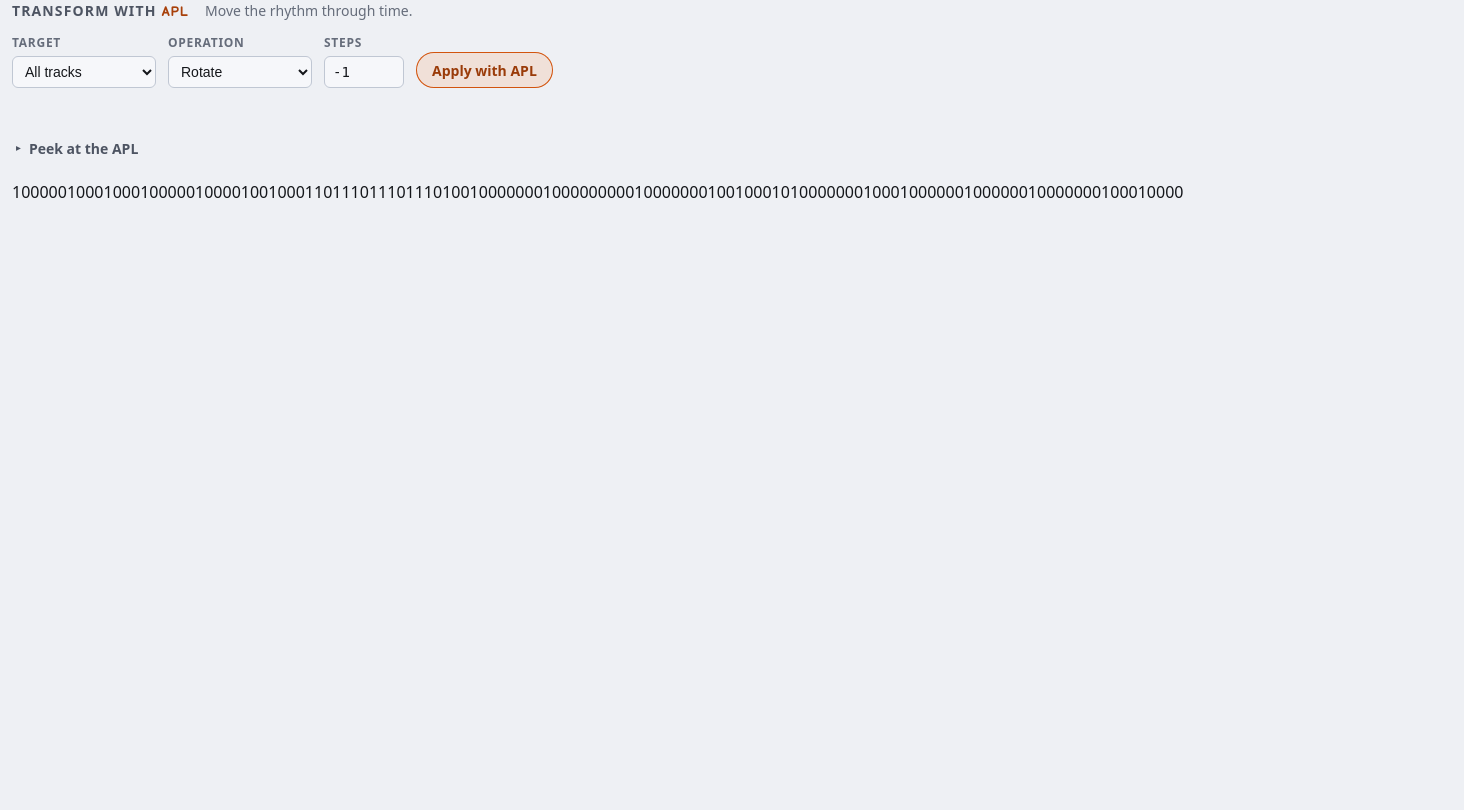
getting to Explore › starts from the expression that would really have run
Select "Kick" in the dropdown labelled "Target" at [84, 72], box [12,56,156,88]
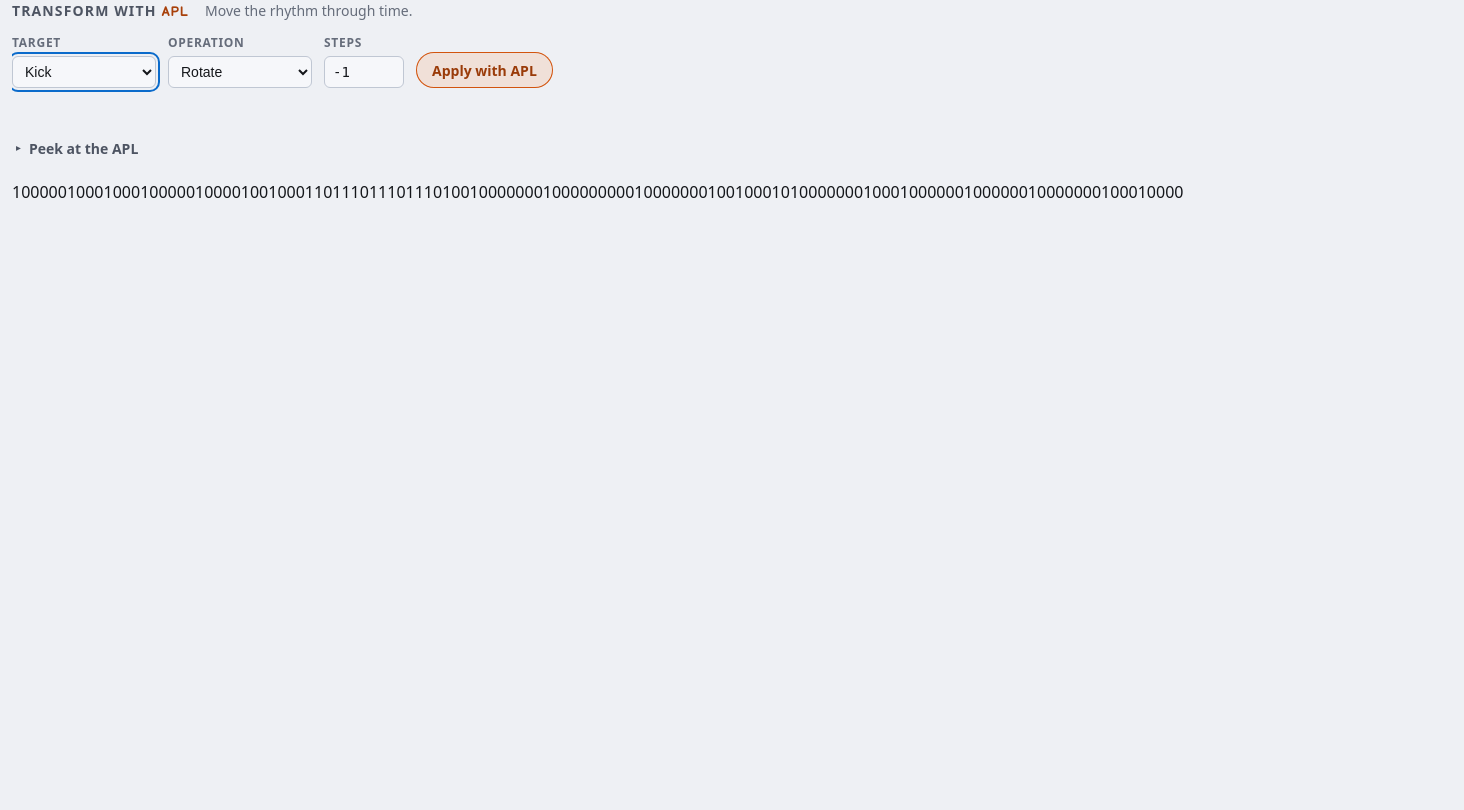
Select "Rotate" in the dropdown labelled "Operation" at [240, 72], box [168,56,312,88]
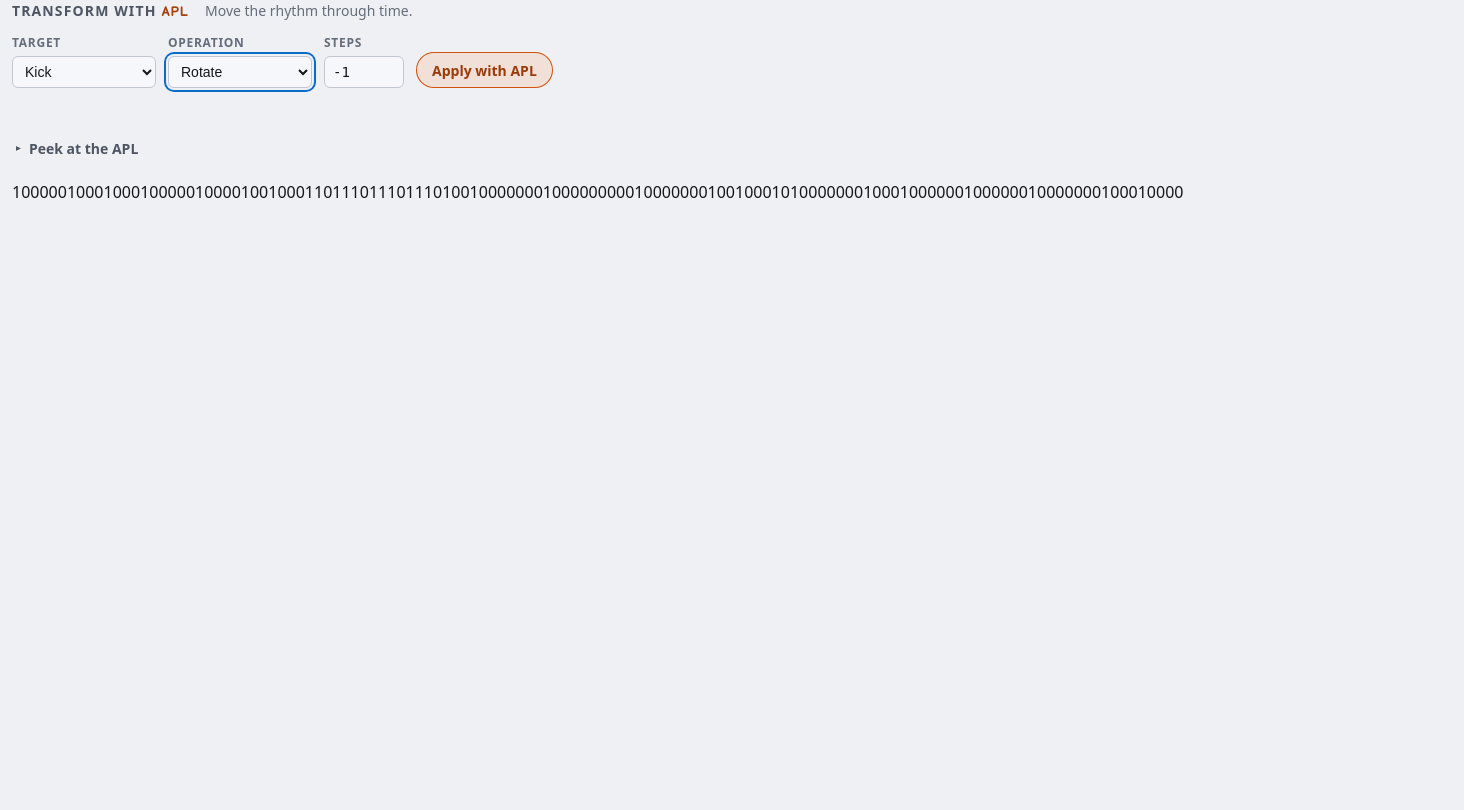
Click the button "▸ Peek at the APL" at [79, 148], box [12,132,146,164]
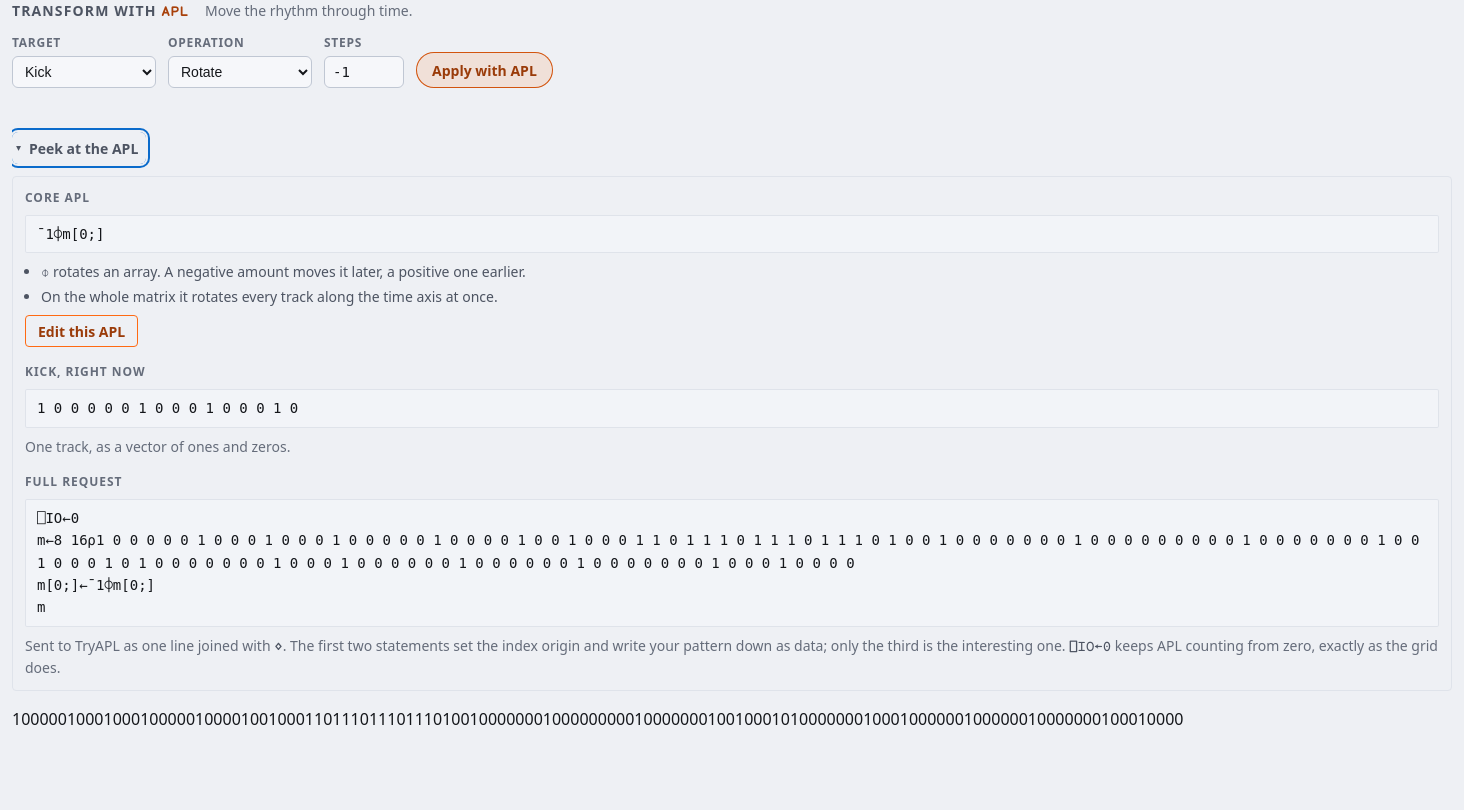
Click the button "Edit this APL" at [82, 331], box [25,315,138,347]
(page scrolled)
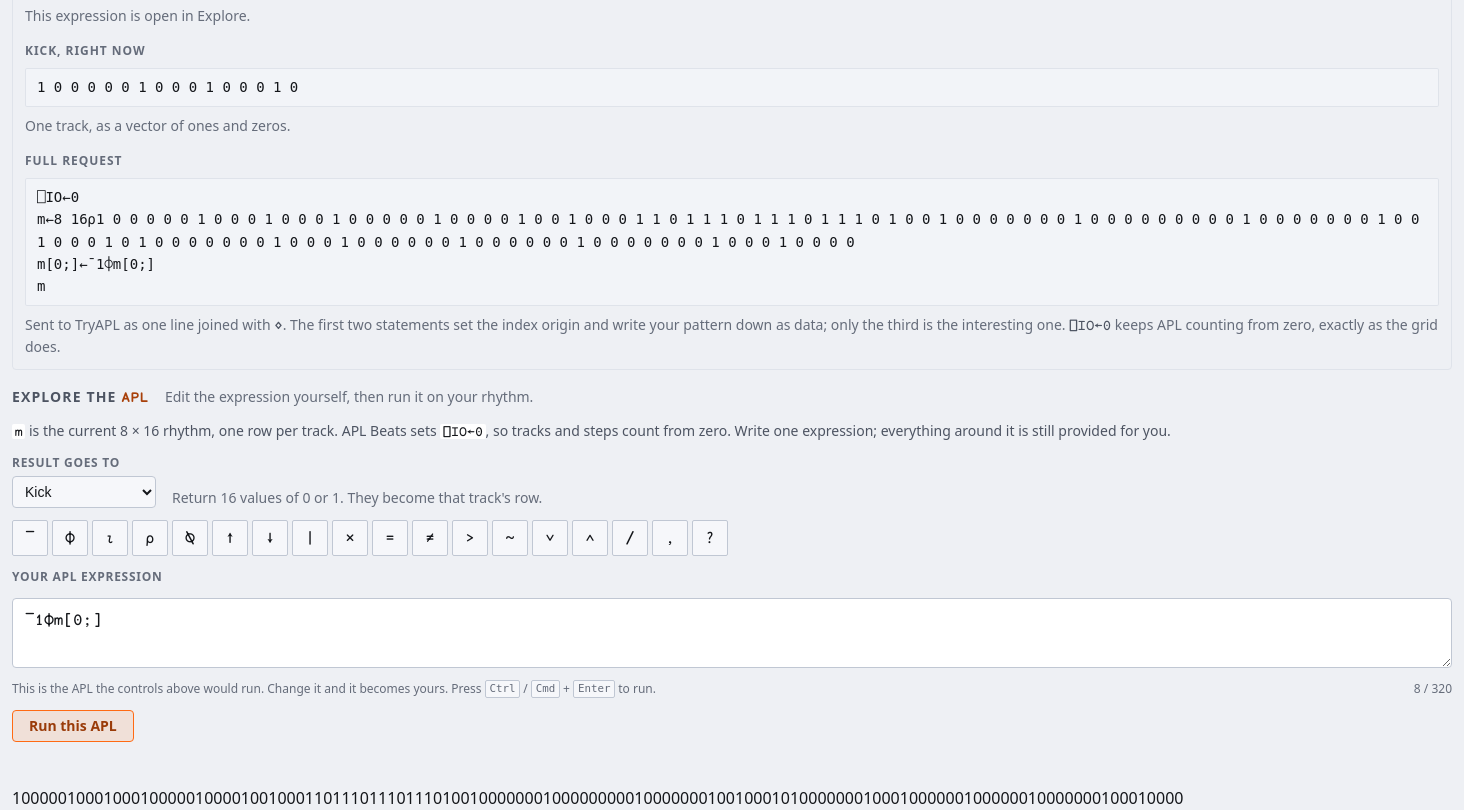
Expected: the text box labelled "Your APL expression" holds "¯1⌽m[0;]", [12,598,1452,668]
